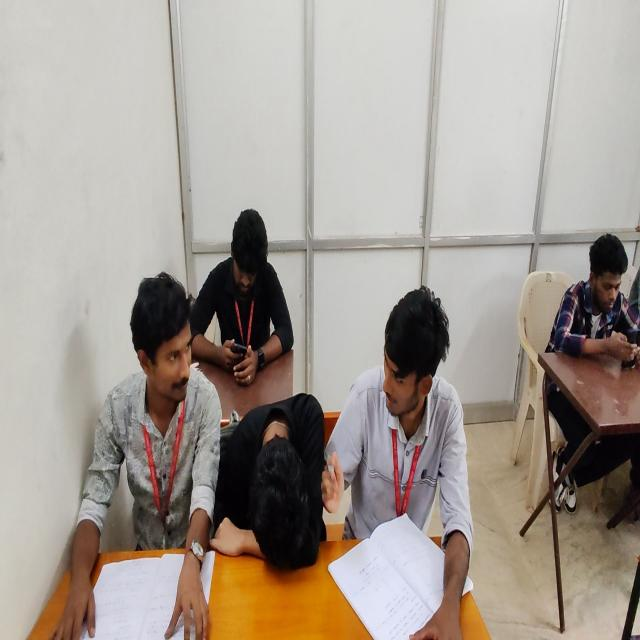sleeping: (209, 397, 332, 583)
turning: (53, 264, 225, 638), (320, 280, 476, 640)
using_mobile: (182, 206, 295, 386), (535, 218, 639, 377)
